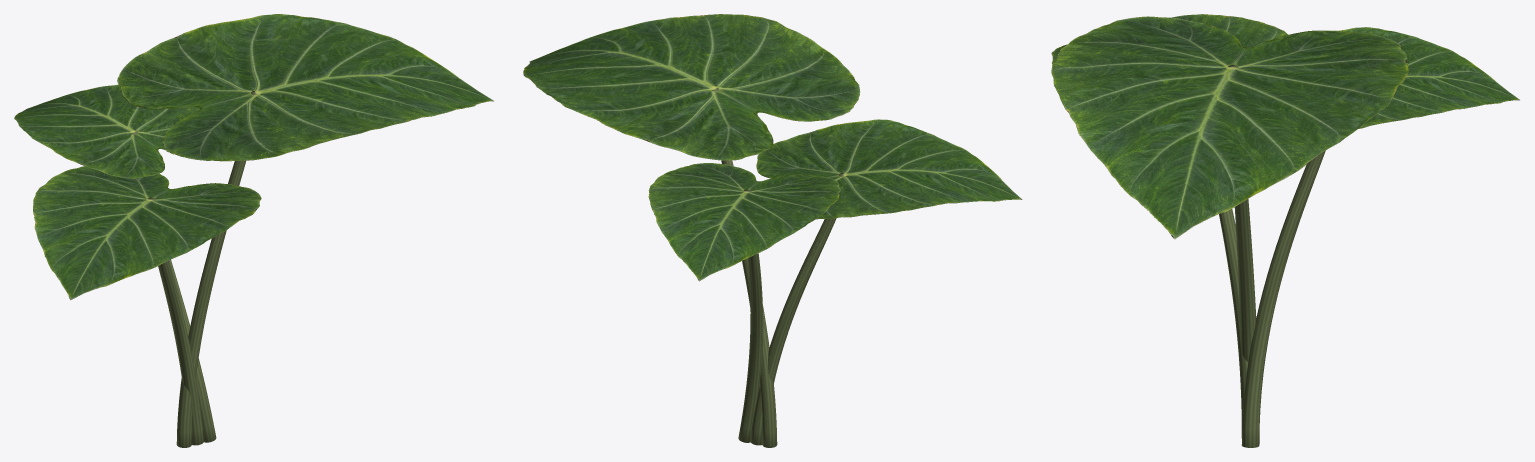
Rendered from taro-detail.glb.
The picture shows the model from 3 angles, left to right: view 1: azimuth 30°, elevation 25°; view 2: azimuth 150°, elevation 25°; view 3: azimuth 270°, elevation 25°; orthographic projection. The views are drawn at different scales.
Parts seen in each view (by area): view 1: leaf, petiole; view 2: leaf, petiole; view 3: leaf, petiole.
Part boxes in pixels (<box>): leaf: <box>14,14,494,299</box>; petiole: <box>130,91,256,447</box>; leaf: <box>523,14,1022,281</box>; petiole: <box>711,88,843,447</box>; leaf: <box>1051,14,1520,239</box>; petiole: <box>1219,65,1325,447</box>.
Size of the model in its own units: 0.639 by 0.4642 by 0.478.
4 materials, 3 textured.
